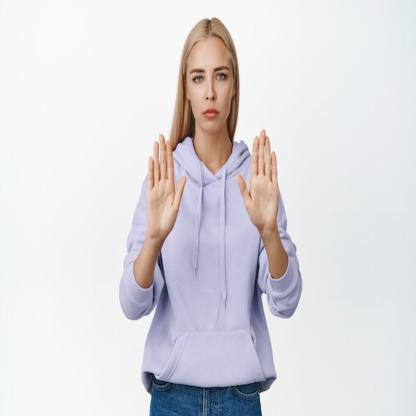stop: (233, 126, 287, 236), (141, 130, 189, 242)
